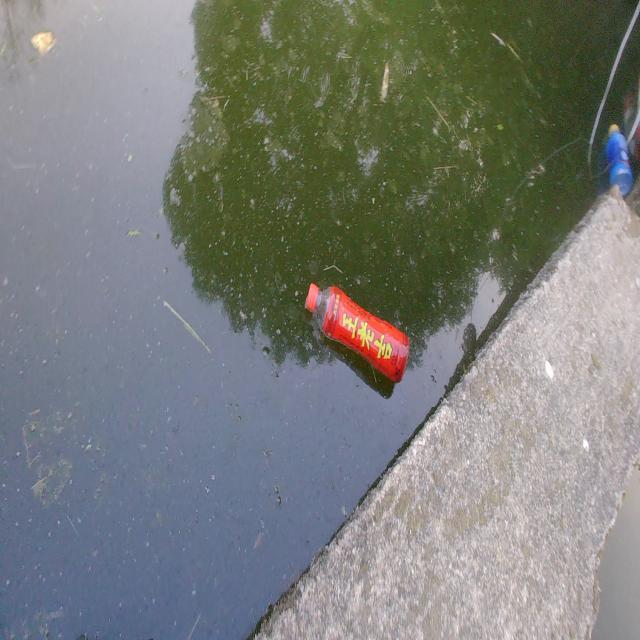garbage: (304, 280, 410, 384)
